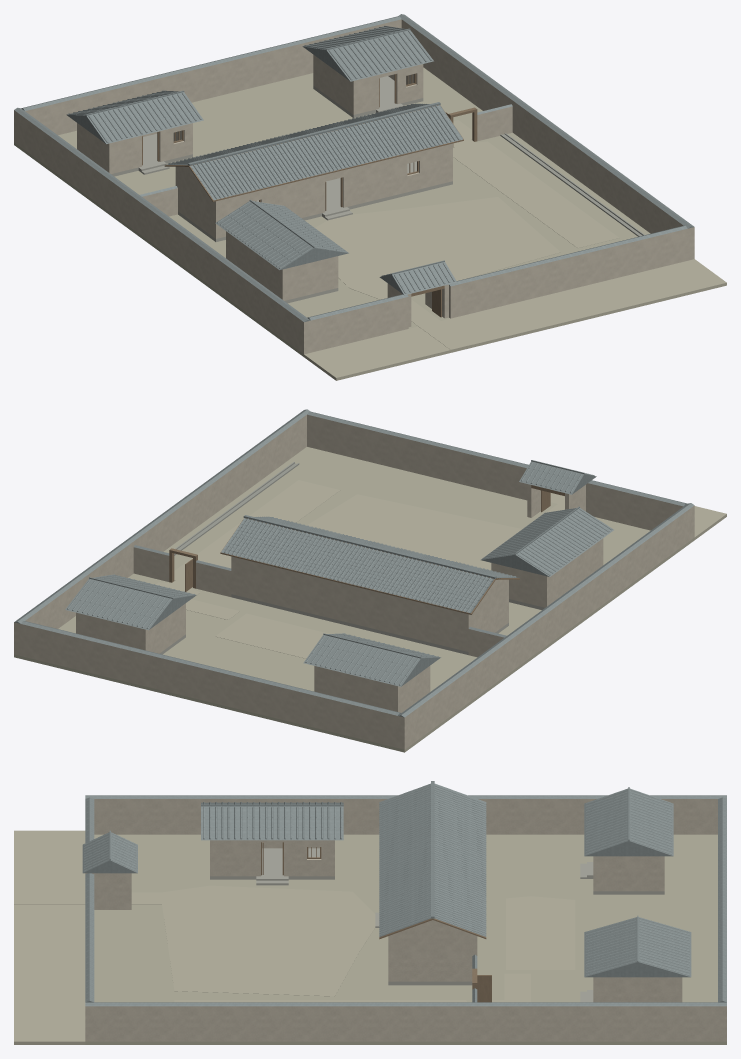
The model's file is courtyard-TC03-roof-v1.glb.
The picture shows the model from 3 angles, top to bottom: view 1: azimuth 30°, elevation 25°; view 2: azimuth 150°, elevation 25°; view 3: azimuth 270°, elevation 25°; orthographic projection. The views are drawn at different scales.
Parts seen in each view (by area): view 1: architecture_C_earth_wall.001, architecture_C_roof_rhythm.001, site_lot, designed_front_apron, site_neutral_lane, main_tile_shells_C, designed_side_passage, architecture_C_plinth.001, architecture_C_plain_timber.001, architecture_C_drain_stone.001, main_simple_ridge_C, main_C_substrate_-1; view 2: architecture_C_earth_wall.001, site_lot, architecture_C_roof_rhythm.001, main_tile_shells_C, designed_front_apron, designed_side_passage, designed_rear_work_ground, architecture_C_plinth.001, main_simple_ridge_C, architecture_C_plain_timber.001, architecture_C_drain_stone.001, site_neutral_lane (+1 smaller); view 3: architecture_C_earth_wall.001, site_lot, architecture_C_roof_rhythm.001, designed_front_apron, site_neutral_lane, main_tile_shells_C, designed_rear_work_ground, architecture_C_plinth.001, designed_side_passage, architecture_C_plain_timber.001, main_C_gable_infill_1, main_simple_ridge_C.
Part boxes in pixels (x1,y1,x2,y2): architecture_C_earth_wall.001: (14,19,694,354); architecture_C_roof_rhythm.001: (14,14,694,322); site_lot: (14,67,650,356); designed_front_apron: (315,197,560,349); site_neutral_lane: (304,259,726,380); main_tile_shells_C: (165,103,463,200); designed_side_passage: (453,120,618,247); architecture_C_plinth.001: (111,76,452,303); architecture_C_plain_timber.001: (142,73,477,317); architecture_C_drain_stone.001: (500,133,644,236); main_simple_ridge_C: (188,102,440,165); main_C_substrate_-1: (188,105,463,201); architecture_C_earth_wall.001: (14,414,694,749); site_lot: (14,447,694,752); architecture_C_roof_rhythm.001: (14,409,694,717); main_tile_shells_C: (221,516,518,613); designed_front_apron: (306,494,564,570); designed_side_passage: (155,480,340,619); designed_rear_work_ground: (215,613,329,658); architecture_C_plinth.001: (159,594,544,654); main_simple_ridge_C: (243,515,496,578); architecture_C_plain_timber.001: (169,485,564,591); architecture_C_drain_stone.001: (174,462,299,555); site_neutral_lane: (550,493,726,539); architecture_C_earth_wall.001: (85,799,726,1041); site_lot: (85,834,726,1044); architecture_C_roof_rhythm.001: (82,787,726,1006); designed_front_apron: (14,885,375,996); site_neutral_lane: (14,830,85,1044); main_tile_shells_C: (379,783,486,936); designed_rear_work_ground: (506,896,575,969); architecture_C_plinth.001: (210,848,664,1002); designed_side_passage: (174,973,530,1002); architecture_C_plain_timber.001: (261,842,491,1002); main_C_gable_infill_1: (390,920,475,935); main_simple_ridge_C: (431,781,434,918).
Size of the model in its own units: 28 by 4.68 by 40.
Materials: 7 (3 with a texture image).
